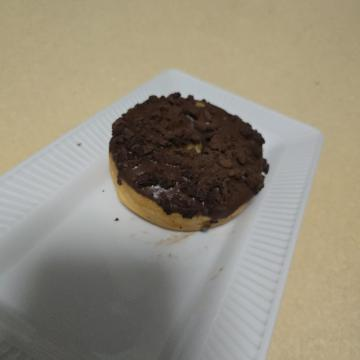doughnut: (80, 86, 240, 262)
